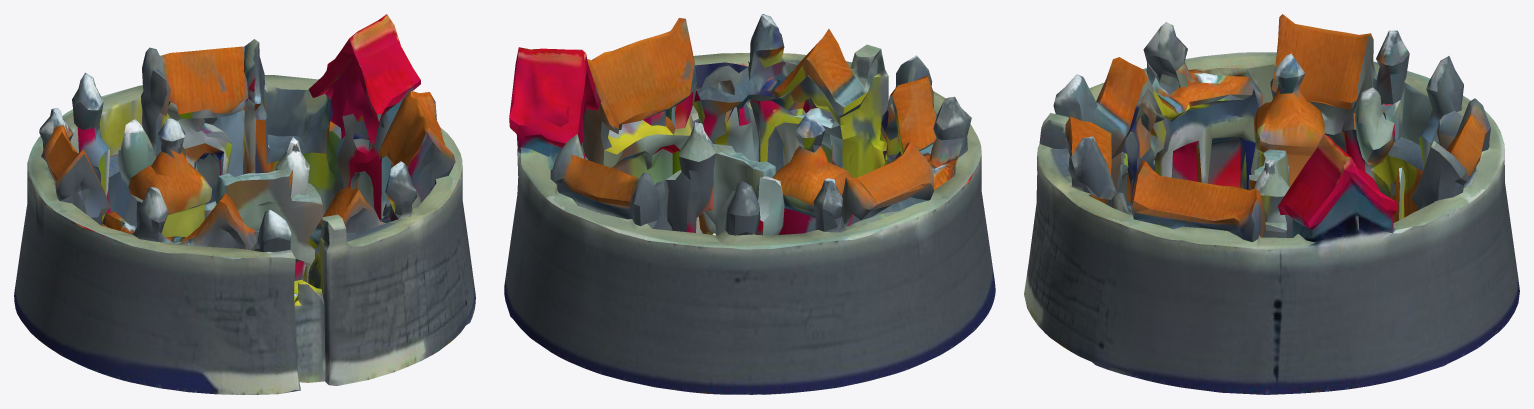
Rendered from tawantinsuyu_pukara_mayor.glb.
3 renders of one model, left to right at view 1: azimuth 30°, elevation 25°; view 2: azimuth 150°, elevation 25°; view 3: azimuth 270°, elevation 25°, orthographic. The views are drawn at different scales.
Visible parts, largest first — view 1: geometry_0; view 2: geometry_0; view 3: geometry_0.
Part boxes in pixels (x1,y1,x2,y2): geometry_0: [14, 14, 475, 394]; geometry_0: [504, 14, 995, 394]; geometry_0: [1024, 14, 1519, 394].
Size of the model in its own units: 3.37 by 1.72 by 3.4.
1 material, 1 textured.
